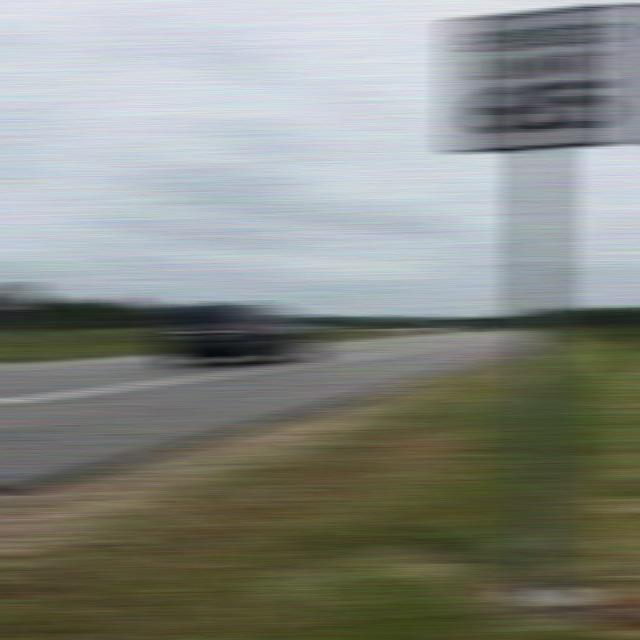speedLimit65: (452, 6, 629, 155)
